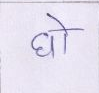o_matra: (55, 17, 71, 53)
